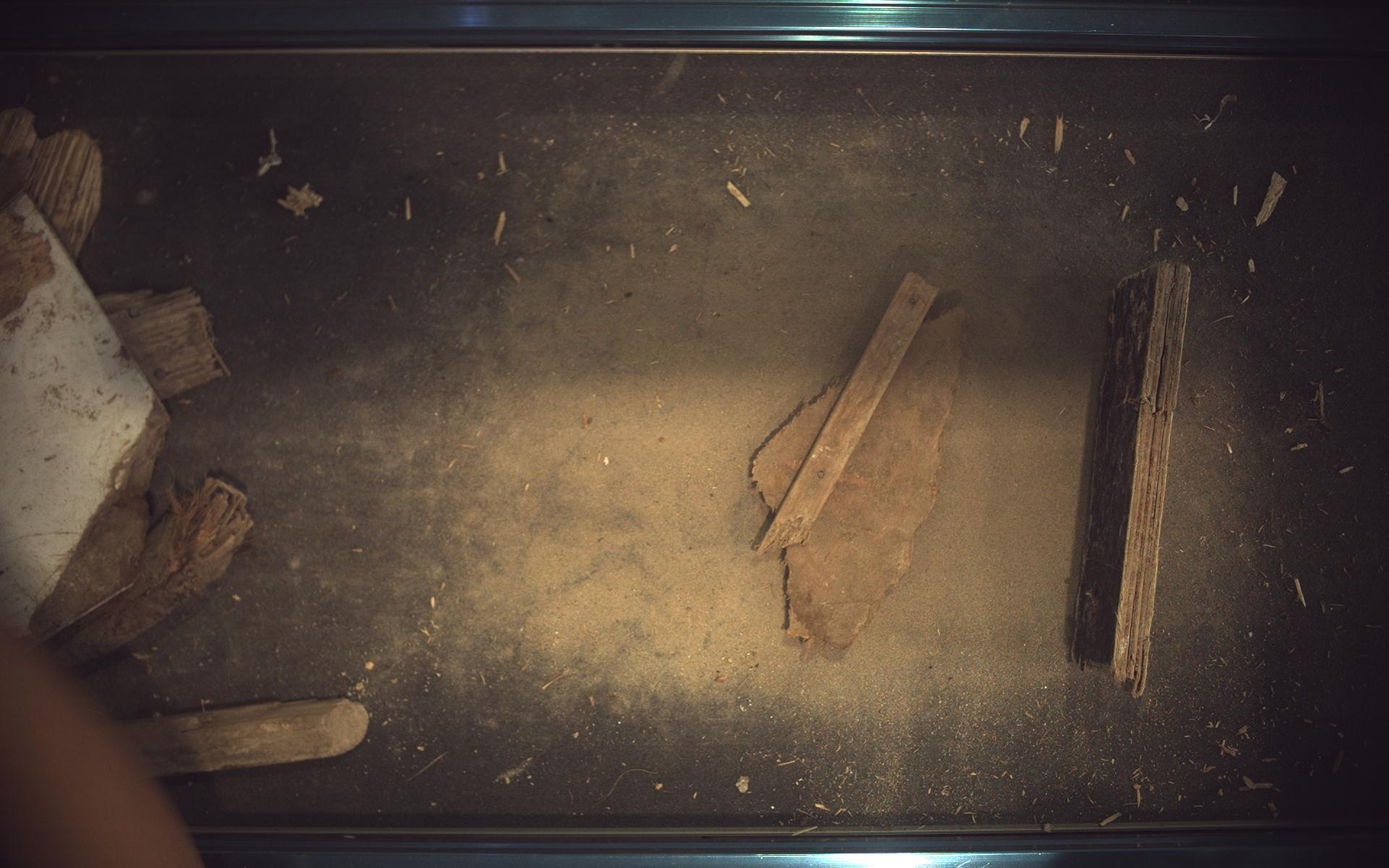wood: (753, 272, 967, 650), (1073, 262, 1193, 697)
